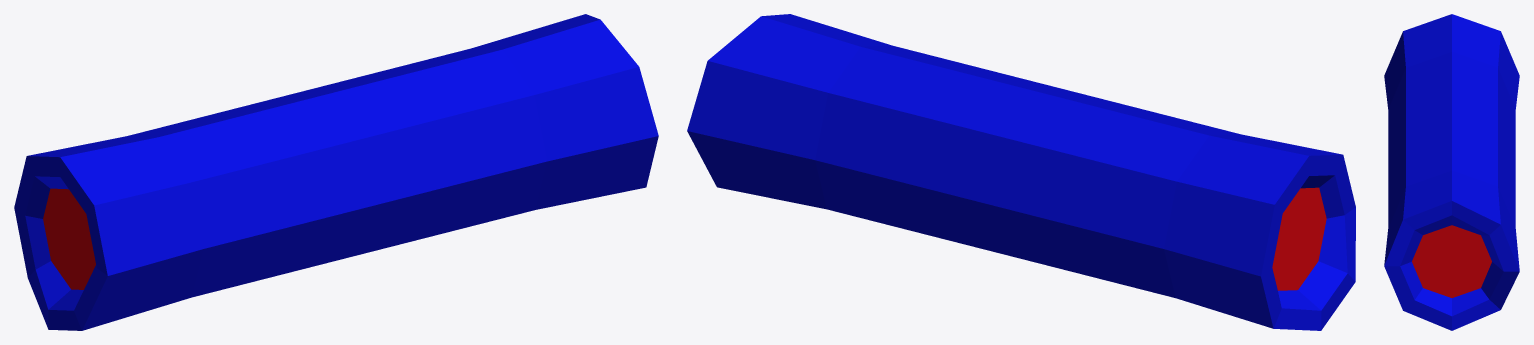
Rendered from SM_Short_Log4.fbx.
The picture shows the model from 3 angles, left to right: view 1: azimuth 30°, elevation 25°; view 2: azimuth 150°, elevation 25°; view 3: azimuth 270°, elevation 25°; orthographic projection. The views are drawn at different scales.
Visible parts, largest first — view 1: SM_Short_Log4; view 2: SM_Short_Log4; view 3: SM_Short_Log4.
Boxes of the visible parts, x1,y1,x2,y2 form: SM_Short_Log4: [14, 14, 658, 330]; SM_Short_Log4: [687, 14, 1355, 330]; SM_Short_Log4: [1384, 14, 1519, 330].
Size of the model in its own units: 72.07 by 20.89 by 20.21.
